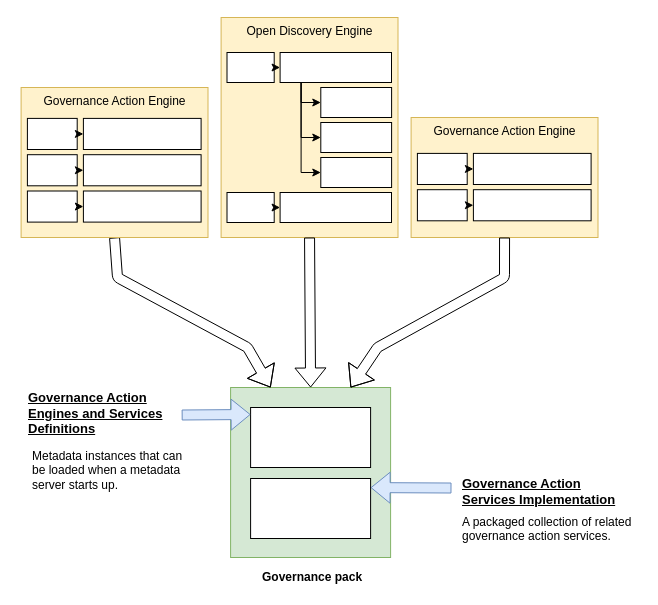
Image size: 658x605. Some labels were removed from this diagram. Here are the shapes that lost their labels. From the top down, the centre of each, then its label:
the point at 310,437: Governance Open Metadata Archive File
the point at 310,508: Governance Service Java Archive (JAR) file
